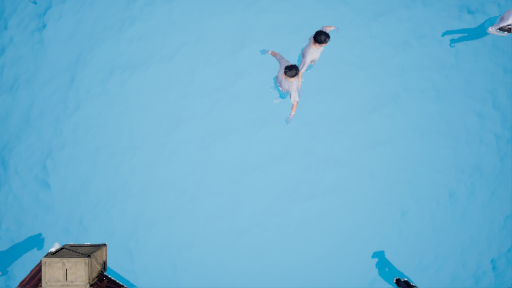person: (255, 46, 304, 126), (293, 20, 342, 91)
